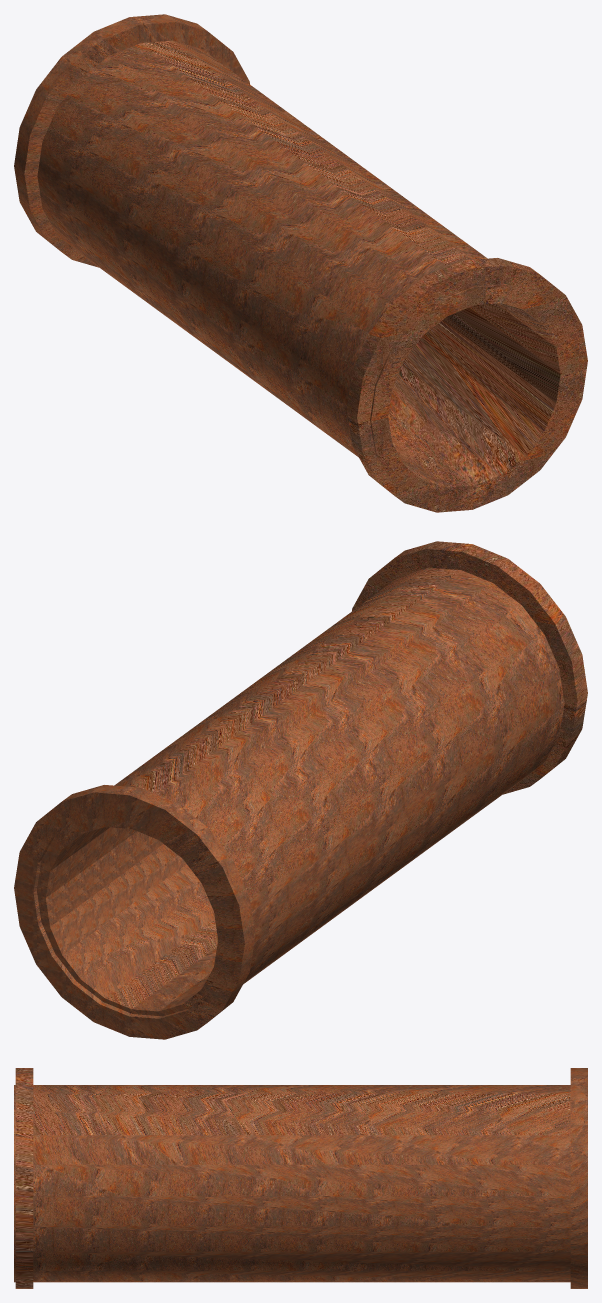
The model's file is pipe 2 c.fbx.
3 renders of one model, top to bottom at view 1: azimuth 30°, elevation 25°; view 2: azimuth 150°, elevation 25°; view 3: azimuth 270°, elevation 25°, orthographic. The views are drawn at different scales.
Visible parts, largest first — view 1: pCylinder180; view 2: pCylinder180; view 3: pCylinder180.
Part boxes in pixels (x1=…): pCylinder180: x1=14, y1=14, x2=587, y2=512; pCylinder180: x1=14, y1=541, x2=587, y2=1039; pCylinder180: x1=14, y1=1068, x2=587, y2=1288.
Bounding box in the file's own units: 1751 × 1751 × 4519.
